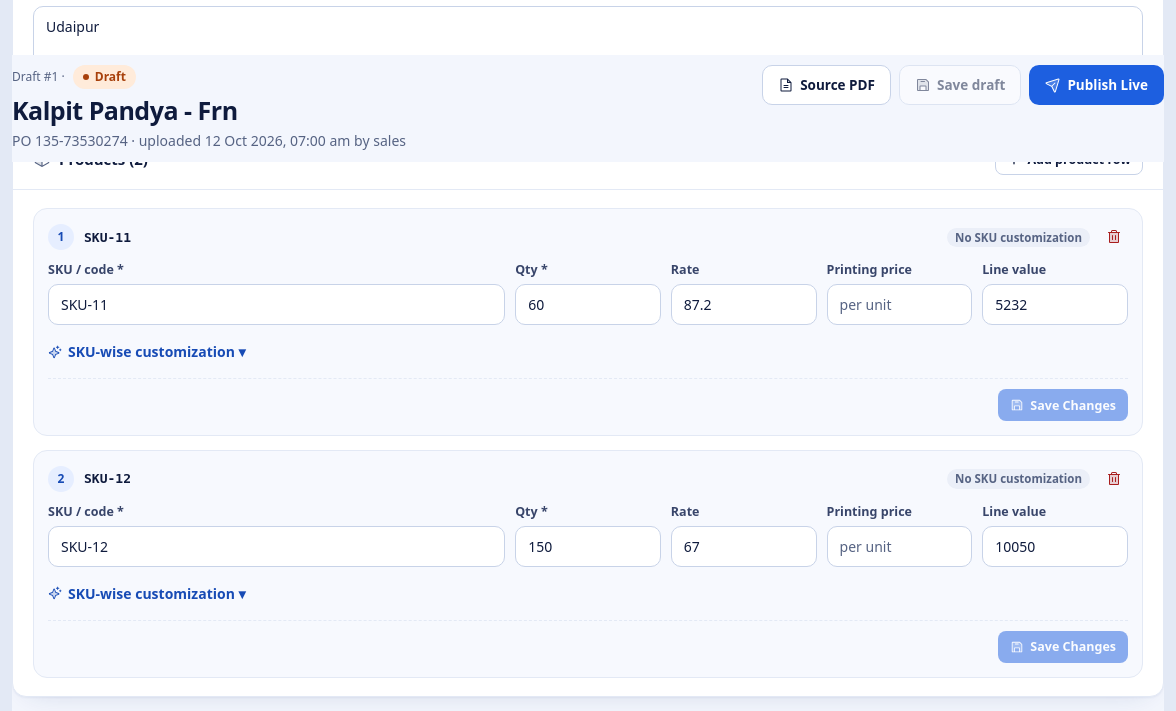
Test: product card layout › keeps typed customization when the section is closed and reopened, and saves it
The image size is (1176, 711).
(page scrolled)
Click the button "SKU-wise customization ▾" below "SKU-11": (147, 352) [48,337,246,366]
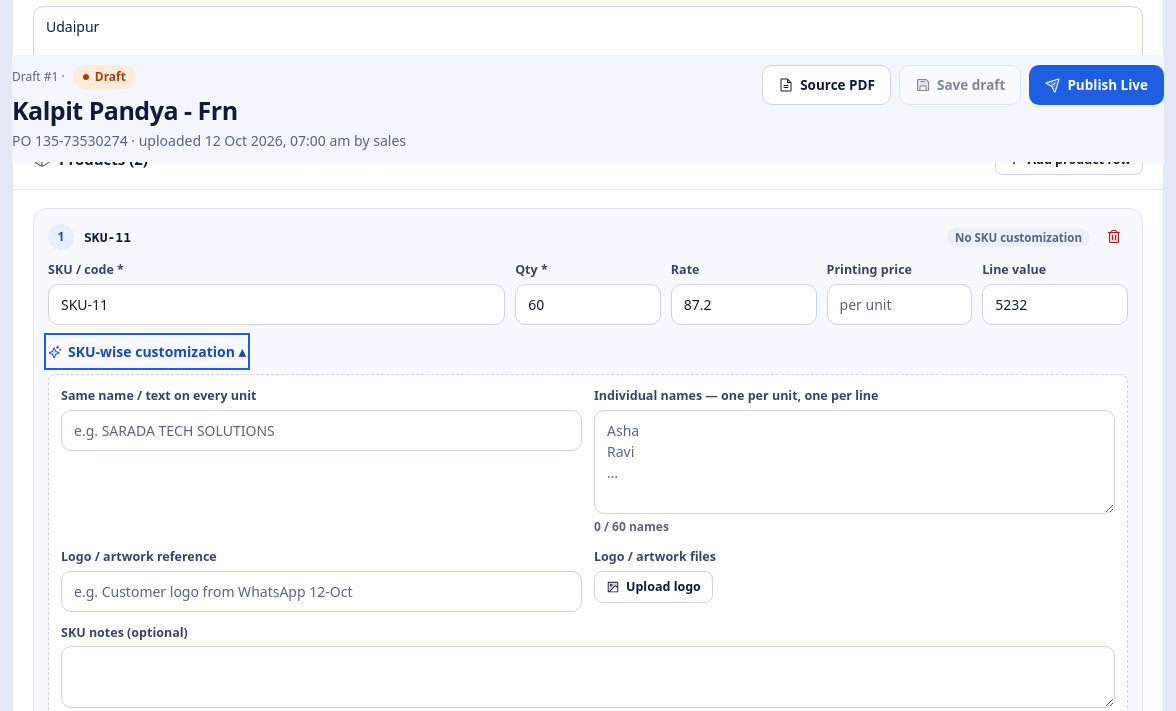
In the field labelled "Same name / text on every unit": (322, 430) [61,410,582,451], type "DEODAP"
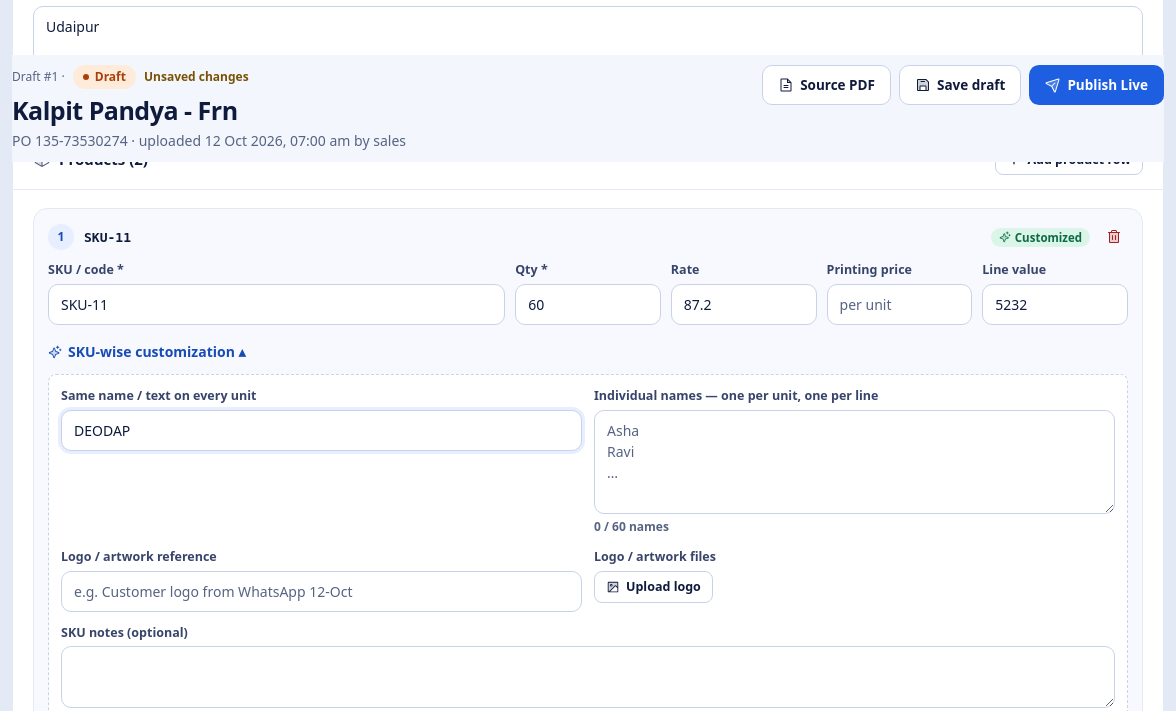
Click the button "SKU-wise customization ▴": (147, 352) [48,337,246,366]
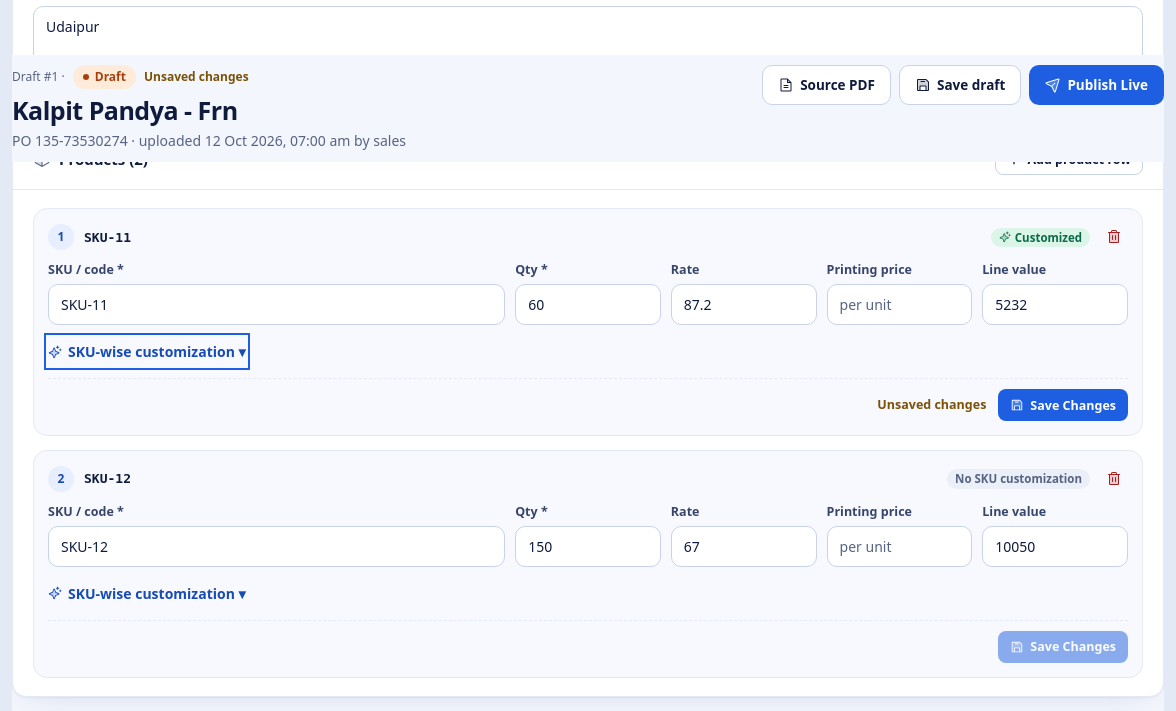
Result: the text "Unsaved changes" below "Customized" is shown at [877,396,986,413]
Click the button "Save Changes" below "Customized": (1063, 405) [998,389,1128,421]
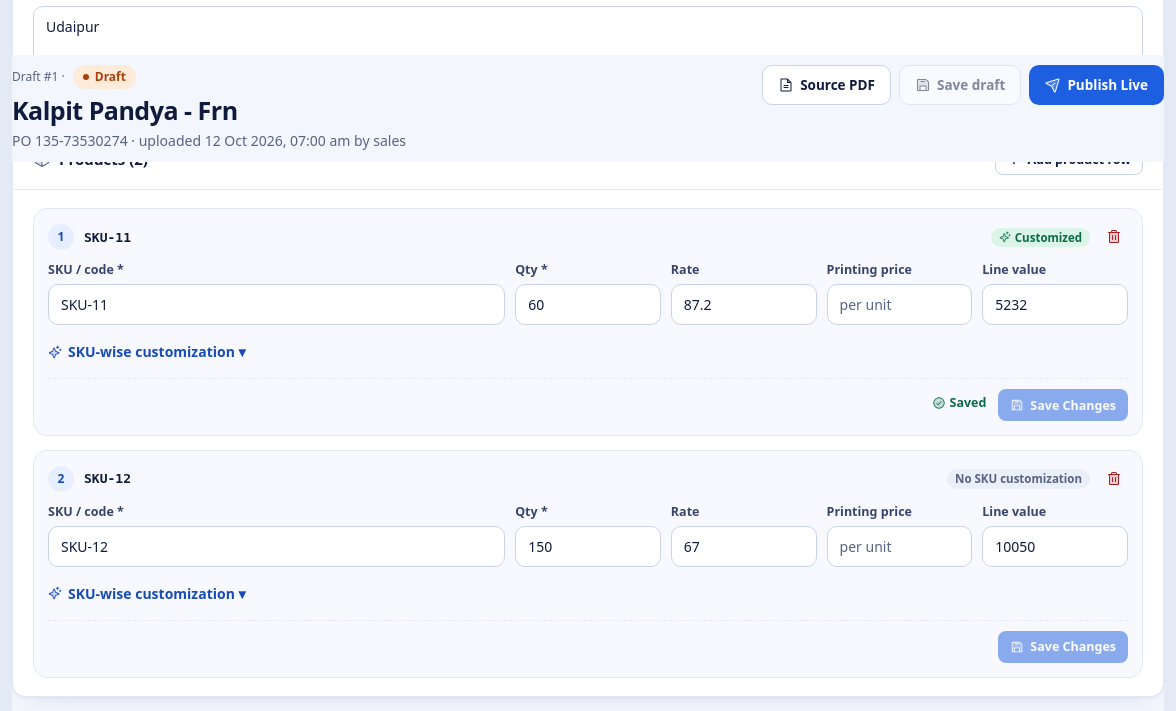
Click the button "SKU-wise customization ▾" below "SKU-11": (147, 352) [48,337,246,366]
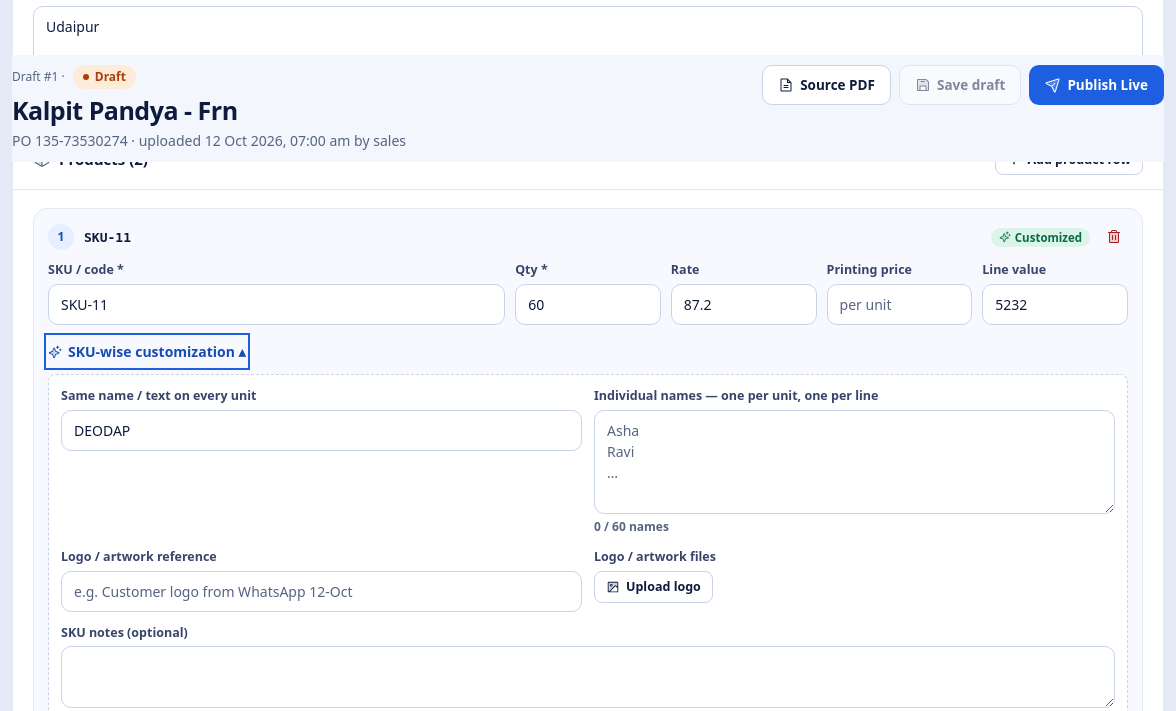
Result: the field labelled "Same name / text on every unit" holds "DEODAP" at [61,410,582,451]
